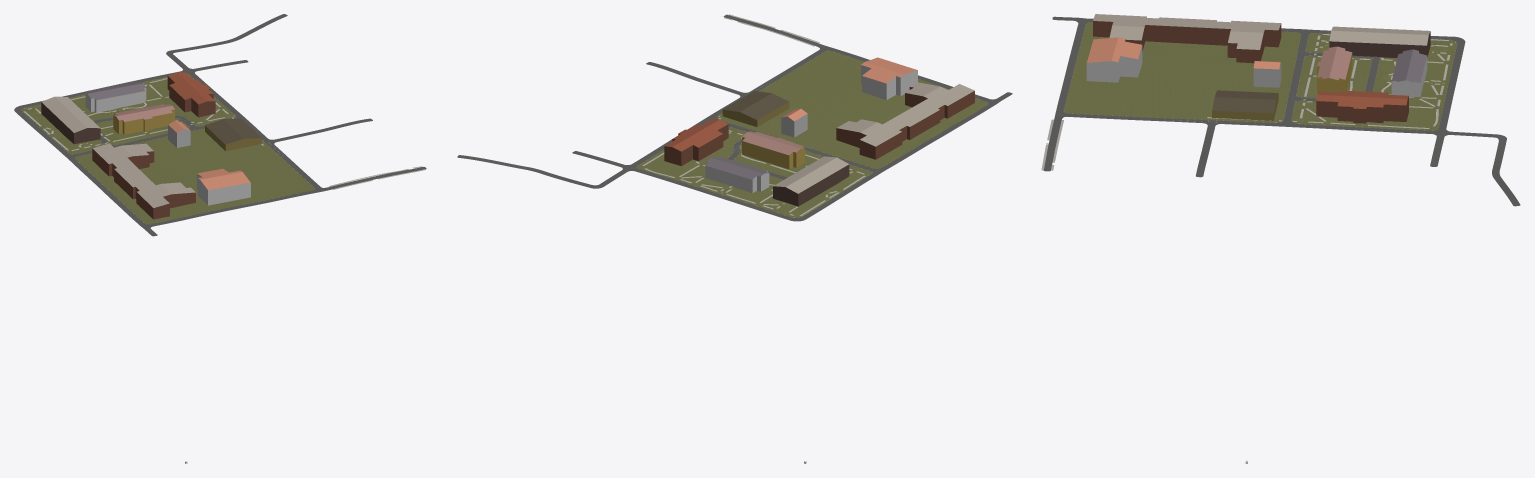
The model's file is COE07_buildings_roads.fbx.
3 renders of one model, left to right at view 1: azimuth 30°, elevation 25°; view 2: azimuth 150°, elevation 25°; view 3: azimuth 270°, elevation 25°, orthographic. The views are drawn at different scales.
Parts seen in each view (by area): view 1: Laboratory Sciences Building, Terrain_Ground_Layer0_6Node, Terrain_Ground_Layer0_5Node, Terrain_Ground_Layer0_9Node, Prescott Hall, element, Clement Hall, Bruner Hall, Brown Hall, Lewis Hall, Terrain_Ground_Layer0_2Node, Terrain_Ground_Layer0_10Node (+8 smaller); view 2: Laboratory Sciences Building, Terrain_Ground_Layer0_6Node, Terrain_Ground_Layer0_9Node, Terrain_Ground_Layer0_5Node, Prescott Hall, Clement Hall, element, Terrain_Ground_Layer0_11Node, Brown Hall, Bruner Hall, Lewis Hall, Terrain_Ground_Layer0_12Node (+6 smaller); view 3: Laboratory Sciences Building, Terrain_Ground_Layer0_5Node, Terrain_Ground_Layer0_6Node, Clement Hall, Prescott Hall, Terrain_Ground_Layer0_9Node, element, Terrain_Ground_Layer0_2Node, Terrain_Ground_Layer0_10Node, Lewis Hall, Terrain_Ground_Layer0_12Node, Terrain_Ground_Layer0_11Node (+10 smaller).
Boxes of the visible parts, x1,y1,x2,y2 form: Laboratory Sciences Building: (92,143,195,219); Terrain_Ground_Layer0_6Node: (186,140,295,181); Terrain_Ground_Layer0_5Node: (100,149,214,195); Terrain_Ground_Layer0_9Node: (51,120,185,172); Prescott Hall: (41,96,100,144); element: (197,168,250,205); Clement Hall: (167,72,215,117); Bruner Hall: (85,82,146,112); Brown Hall: (113,104,174,134); Lewis Hall: (205,118,261,151); Terrain_Ground_Layer0_2Node: (250,170,315,201); Terrain_Ground_Layer0_10Node: (157,96,235,149); Laboratory Sciences Building: (836,82,974,159); Terrain_Ground_Layer0_6Node: (759,69,858,123); Terrain_Ground_Layer0_9Node: (752,126,897,190); Terrain_Ground_Layer0_5Node: (807,85,919,150); Prescott Hall: (773,156,849,206); Clement Hall: (664,119,728,166); element: (861,57,917,99); Terrain_Ground_Layer0_11Node: (716,171,843,217); Brown Hall: (742,131,804,169); Bruner Hall: (705,156,769,193); Lewis Hall: (722,91,789,126); Terrain_Ground_Layer0_12Node: (636,149,726,192); Laboratory Sciences Building: (1093,14,1281,63); Terrain_Ground_Layer0_5Node: (1125,41,1246,82); Terrain_Ground_Layer0_6Node: (1125,82,1246,121); Clement Hall: (1316,90,1408,123); Prescott Hall: (1329,26,1430,57); Terrain_Ground_Layer0_9Node: (1246,34,1367,84); element: (1086,37,1142,82); Terrain_Ground_Layer0_2Node: (1064,81,1125,116); Terrain_Ground_Layer0_10Node: (1246,83,1367,127); Lewis Hall: (1212,90,1278,120); Terrain_Ground_Layer0_12Node: (1368,84,1447,130); Terrain_Ground_Layer0_11Node: (1368,39,1457,85).
Size of the model in its own units: 37586 by 36656 by 39518.
